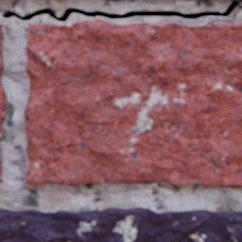brick: (25, 20, 241, 186), (0, 206, 241, 241), (0, 24, 8, 181)
crack: (1, 0, 240, 22)
